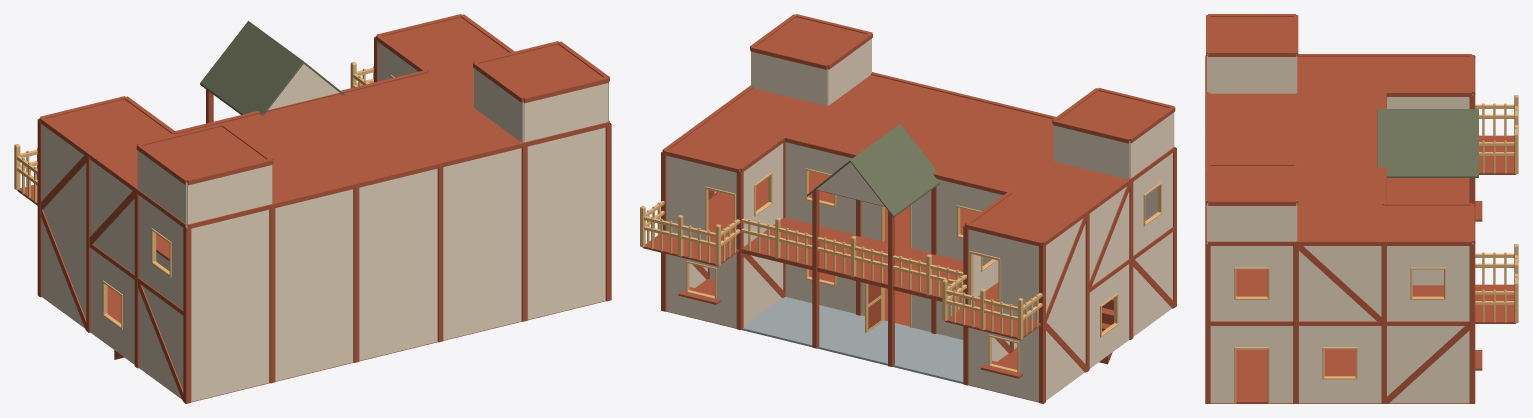
Rendered from ExampleBuilding2.glb.
3 renders of one model, left to right at view 1: azimuth 30°, elevation 25°; view 2: azimuth 150°, elevation 25°; view 3: azimuth 270°, elevation 25°, orthographic. The views are drawn at different scales.
Parts seen in each view (by area): view 1: Wall.024, Wall.022, Wall.023, Wall.026, Wall.025, Wall.034, Wall.037, Wall.033, Wall.035, Wall.036, Roof_Mild_Triangle.001, Floor.055 (+45 smaller); view 2: Wall_Window.019, Wall_Door_Side.004, Wall_Door_Side.003, Wall_Window.016, Wall_Window.015, Roof_Mild_Triangle.001, Floor.058, Floor.056, Floor.059, Floor.053, Floor.060, Floor_Outside.239 (+67 smaller); view 3: Wall.019, Wall.030, Wall_Window.017, Wall_Window.024, Wall_Window.023, Roof_Mild_Triangle.001, Wall_Door_Center.003, Floor.057, Wall_Sliced_Vertical.005, Floor.060, Wall_Sliced_Vertical.001, Floor.055 (+46 smaller).
Boxes of the visible parts, x1,y1,x2,y2 form: Wall.024: (443, 233, 521, 340); Wall.022: (275, 274, 353, 381); Wall.023: (359, 254, 437, 360); Wall.026: (191, 295, 269, 401); Wall.025: (527, 213, 605, 319); Wall.034: (359, 168, 437, 272); Wall.037: (187, 210, 269, 313); Wall.033: (275, 189, 353, 293); Wall.035: (443, 148, 521, 252); Wall.036: (527, 127, 605, 231); Roof_Mild_Triangle.001: (210, 23, 299, 111); Floor.055: (344, 73, 473, 127); Wall_Window.019: (785, 142, 855, 234); Wall_Door_Side.004: (666, 155, 736, 248); Wall_Door_Side.003: (968, 229, 1038, 321); Wall_Window.016: (666, 253, 736, 328); Wall_Window.015: (968, 327, 1038, 401); Roof_Mild_Triangle.001: (854, 126, 933, 206); Floor.058: (903, 93, 1020, 142); Floor.056: (710, 88, 826, 136); Floor.059: (829, 75, 944, 123); Floor.053: (937, 142, 1053, 191); Floor.060: (1012, 161, 1125, 210); Floor_Outside.239: (742, 297, 857, 346); Wall.019: (1387, 326, 1469, 403); Wall.030: (1299, 246, 1381, 321); Wall_Window.017: (1299, 326, 1381, 403); Wall_Window.024: (1210, 246, 1293, 321); Wall_Window.023: (1387, 246, 1469, 321); Roof_Mild_Triangle.001: (1384, 109, 1472, 167); Wall_Door_Center.003: (1210, 326, 1293, 403); Floor.057: (1210, 93, 1296, 130); Wall_Sliced_Vertical.005: (1208, 57, 1296, 93); Floor.060: (1297, 56, 1384, 92); Wall_Sliced_Vertical.001: (1208, 206, 1296, 241); Floor.055: (1298, 167, 1381, 204).
Bounding box in the file's own units: 20.25 × 10.6 × 14.23.
1 material, 1 textured.
